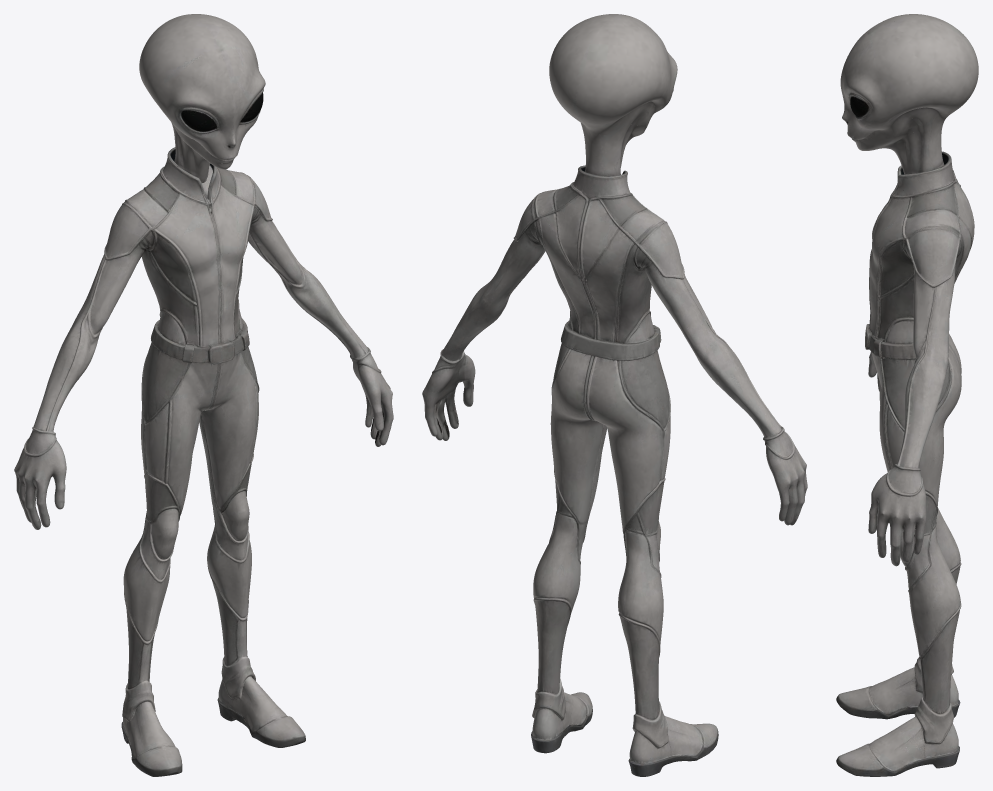
The model's file is alien-grey-light.glb.
3 views of the same model, side by side, from view 1: azimuth 30°, elevation 25°; view 2: azimuth 150°, elevation 25°; view 3: azimuth 270°, elevation 25° (orthographic).
Visible parts, largest first — view 1: alien-grey; view 2: alien-grey; view 3: alien-grey.
Part boxes in pixels (x1,y1,x2,y2): alien-grey: (14,14,393,776); alien-grey: (422,14,807,776); alien-grey: (836,14,978,776).
Size of the model in its own units: 0.7479 by 1.4 by 0.2513.
Materials: 1 (1 with a texture image).
